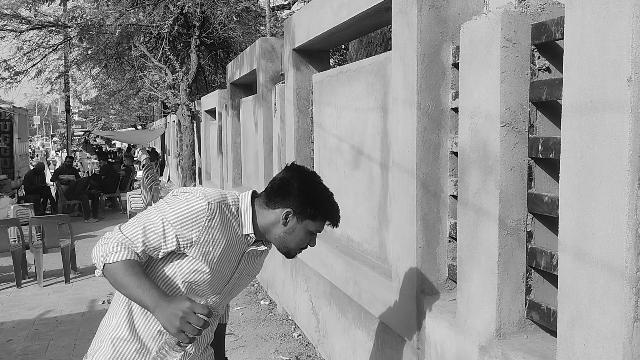spit: (202, 176, 331, 360)
